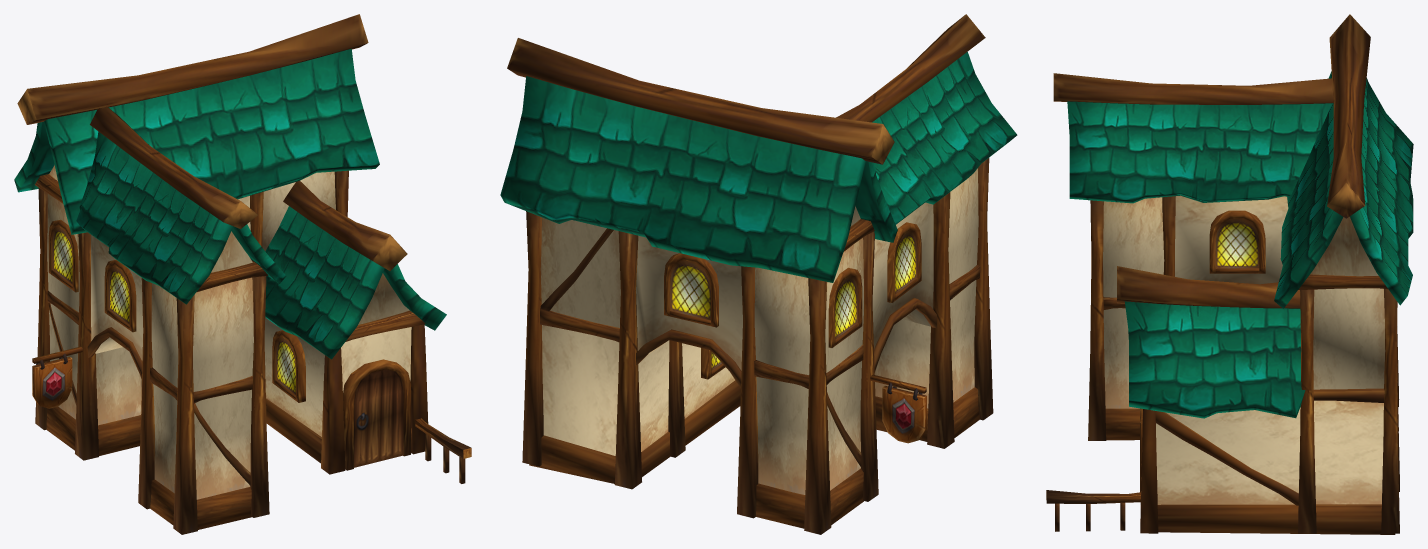
The model's file is building_8_4.FBX.
3 views of the same model, side by side, from view 1: azimuth 30°, elevation 25°; view 2: azimuth 150°, elevation 25°; view 3: azimuth 270°, elevation 25° (orthographic). The views are drawn at different scales.
Parts seen in each view (by area): view 1: building_8_4; view 2: building_8_4; view 3: building_8_4.
Part boxes in pixels (left/top/right/bottom): building_8_4: left=14, top=14, right=471, bottom=534; building_8_4: left=500, top=14, right=1017, bottom=534; building_8_4: left=1046, top=14, right=1413, bottom=534.
Size of the model in its own units: 328 by 328 by 293.
